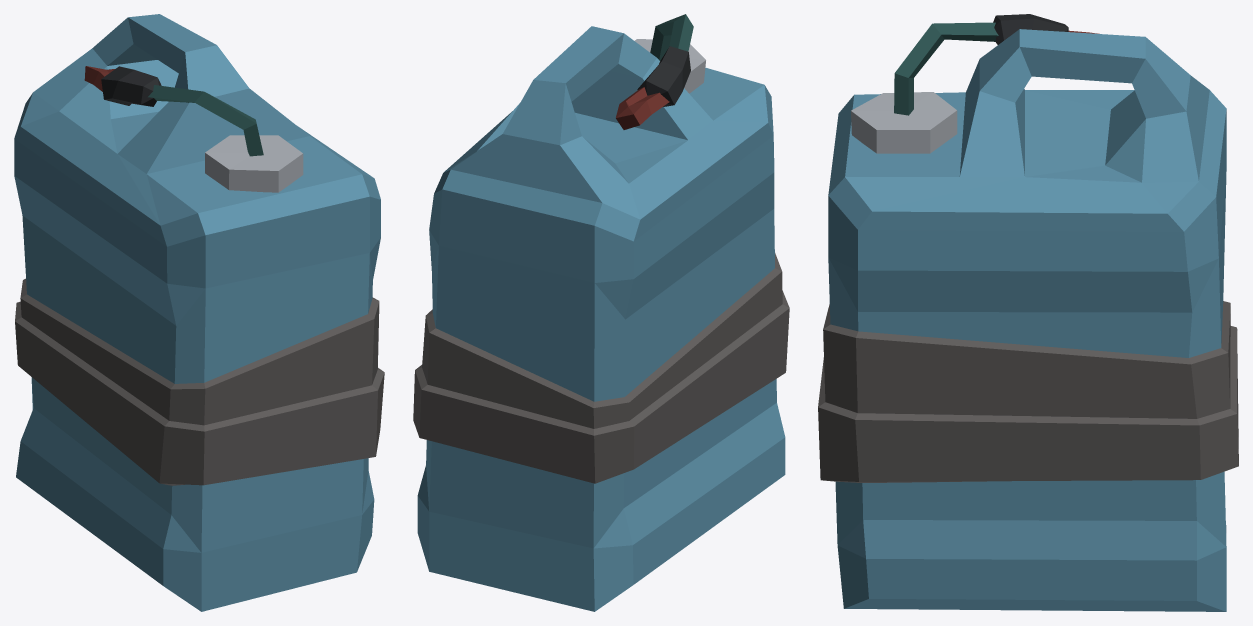
Rendered from SM_Prop_IED_04.fbx.
The picture shows the model from 3 angles, left to right: view 1: azimuth 30°, elevation 25°; view 2: azimuth 150°, elevation 25°; view 3: azimuth 270°, elevation 25°; orthographic projection. The views are drawn at different scales.
Visible parts, largest first — view 1: SM_Prop_IED_04; view 2: SM_Prop_IED_04; view 3: SM_Prop_IED_04.
Boxes of the visible parts, x1,y1,x2,y2 form: SM_Prop_IED_04: (14, 14, 384, 611); SM_Prop_IED_04: (413, 14, 789, 611); SM_Prop_IED_04: (818, 14, 1238, 611).
Size of the model in its own units: 15.09 by 32.14 by 23.1.
